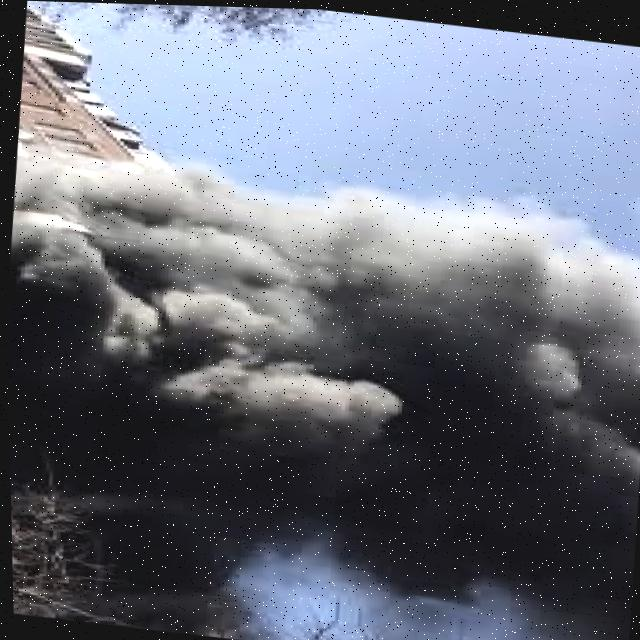Smoke: (2, 134, 640, 640)
